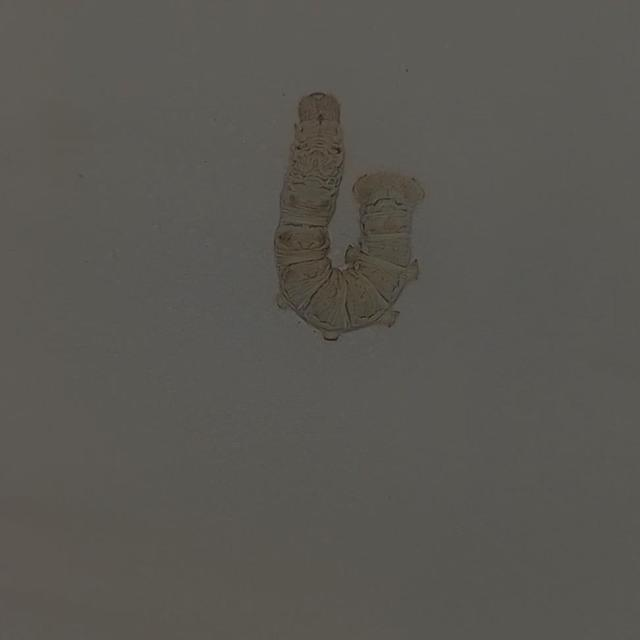Healthy: (249, 65, 484, 368)
